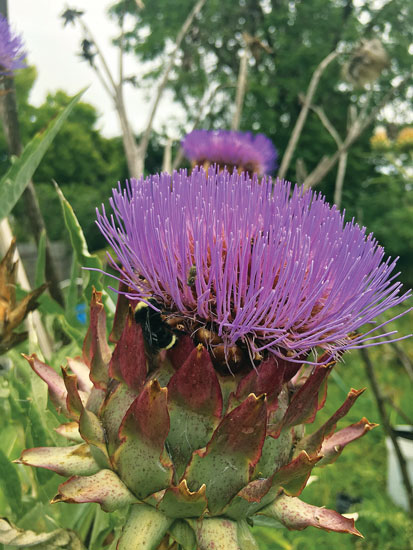thistle: (63, 169, 413, 545), (173, 120, 283, 174)
